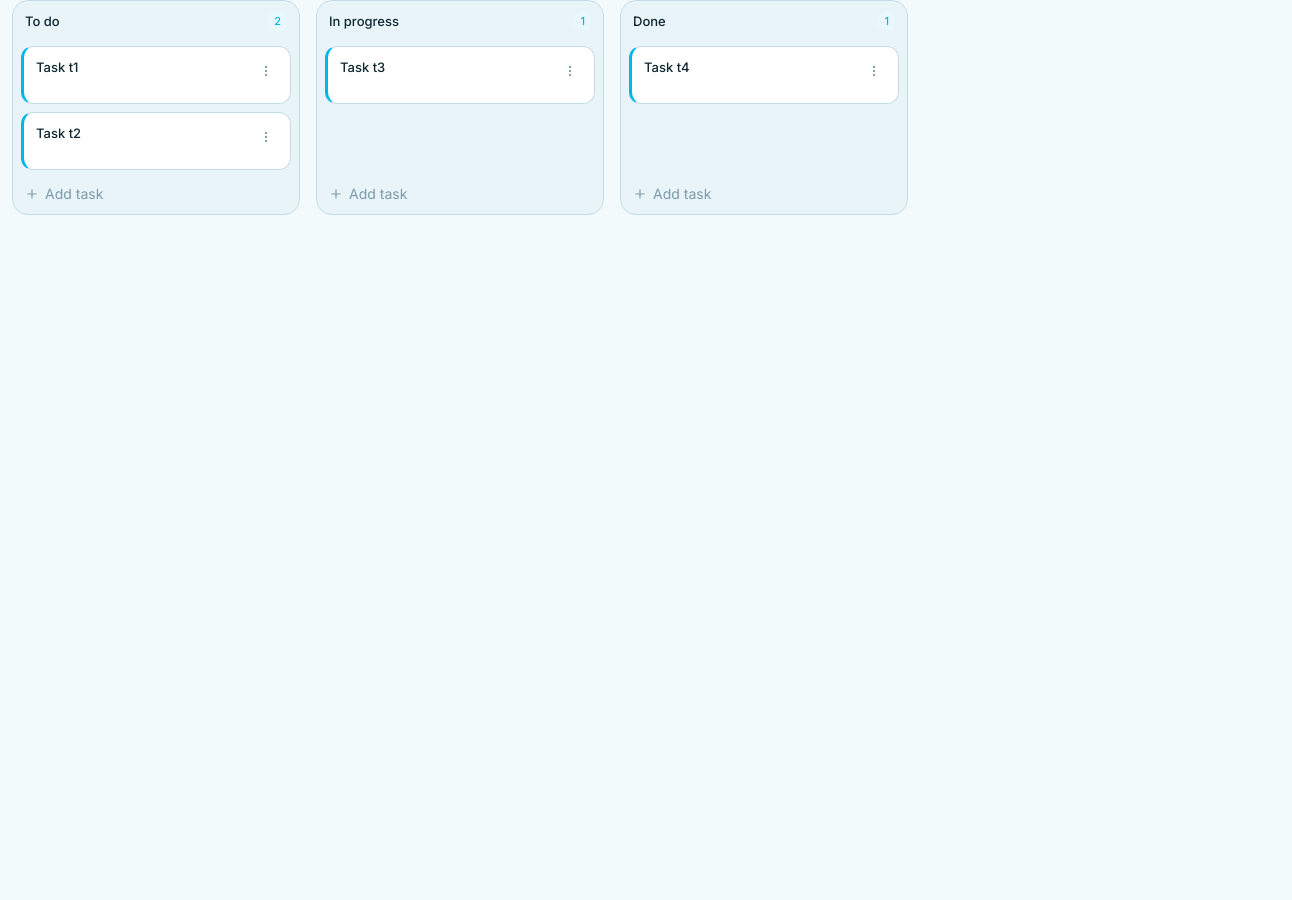
Test: BoardView › bulk action bar is visible when a card is selected
Step 1. Click the element with test id "card-t1" → (156, 74), box top-left (21, 46), bottom-right (291, 104)
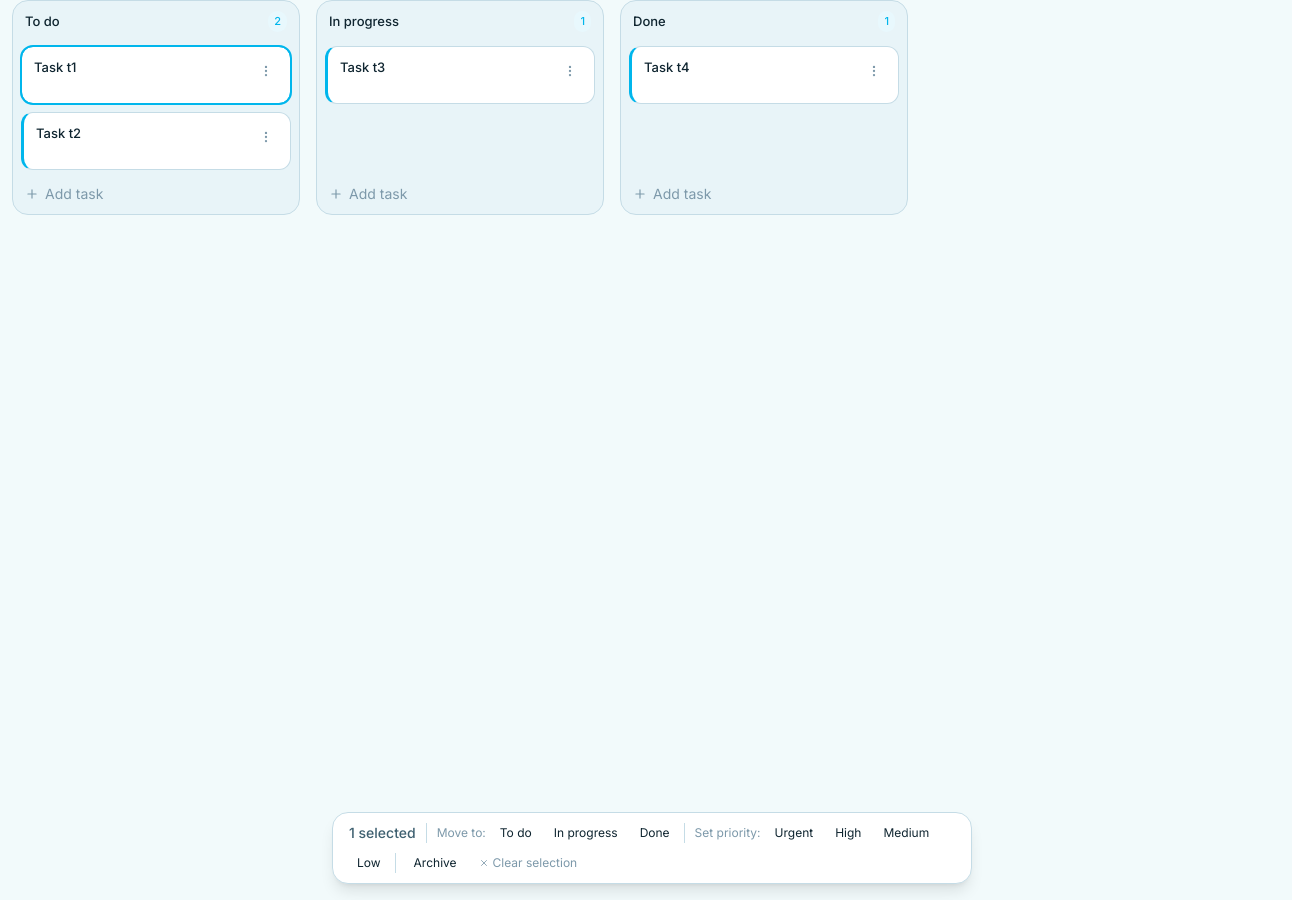
Result: the element with test id "bulk-action-bar" is shown at top-left (332, 812), bottom-right (972, 884)
Result: the text "1 selected" is shown at top-left (349, 823), bottom-right (416, 843)
